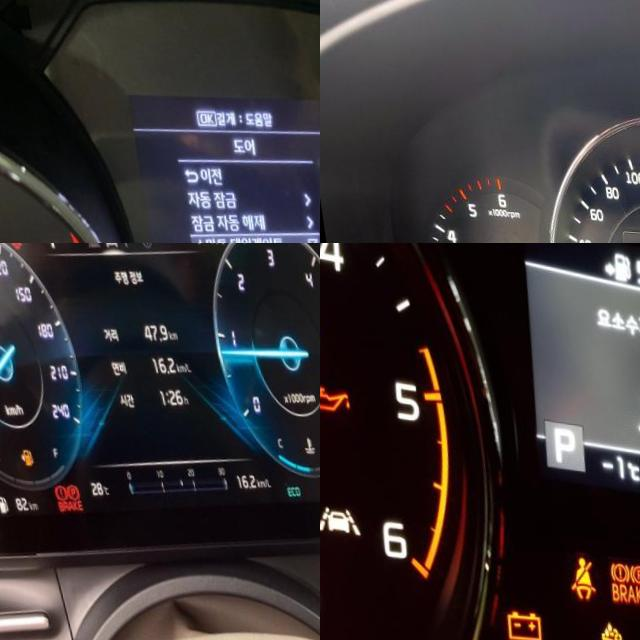Low fuel level: (8, 444, 21, 463)
